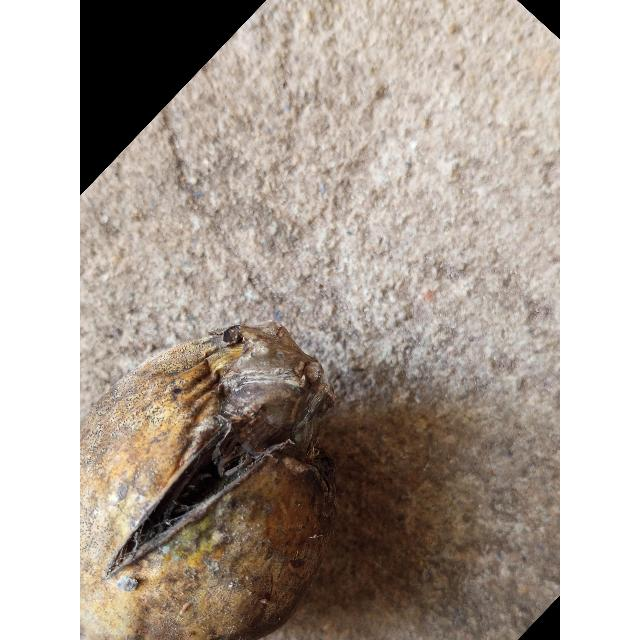damaged: (80, 322, 337, 640)
